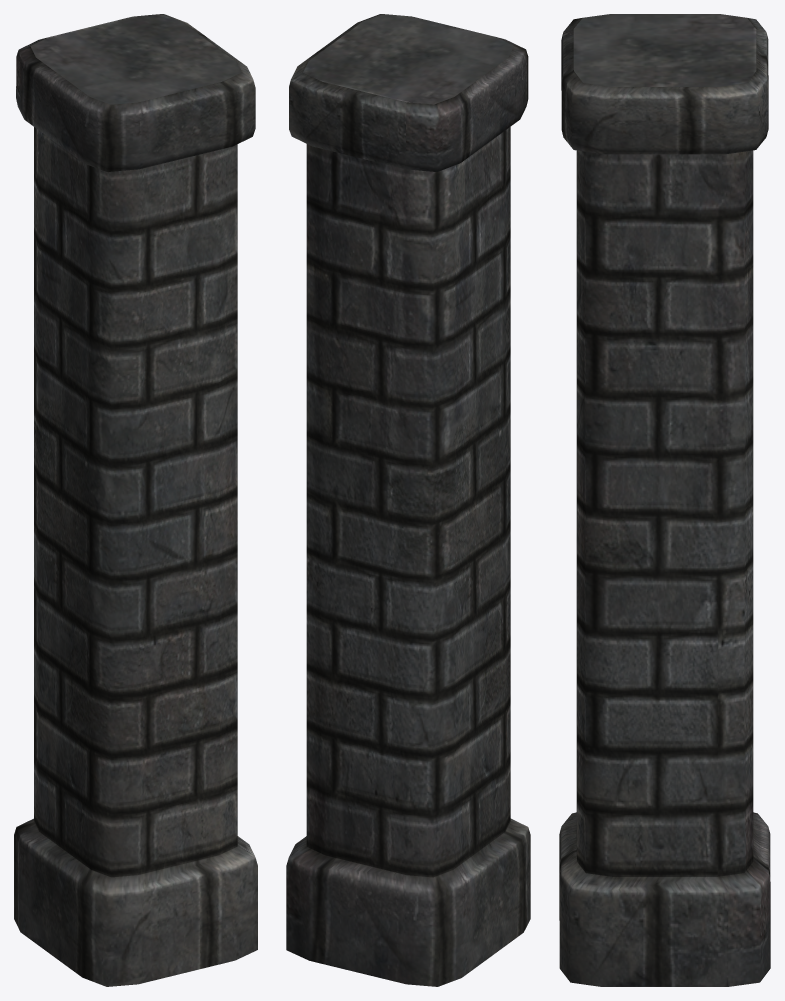
File: column.FBX
3 views of the same model, side by side, from view 1: azimuth 30°, elevation 25°; view 2: azimuth 150°, elevation 25°; view 3: azimuth 270°, elevation 25° (orthographic). The views are drawn at different scales.
Visible parts, largest first — view 1: column; view 2: column; view 3: column.
Boxes of the visible parts, left/top/right/bottom form: column: left=14, top=14, right=257, bottom=986; column: left=286, top=14, right=530, bottom=986; column: left=559, top=14, right=770, bottom=986.
Bounding box in the file's own units: 0.8796 × 4.36 × 0.9322.
Materials: 1 (1 with a texture image).
